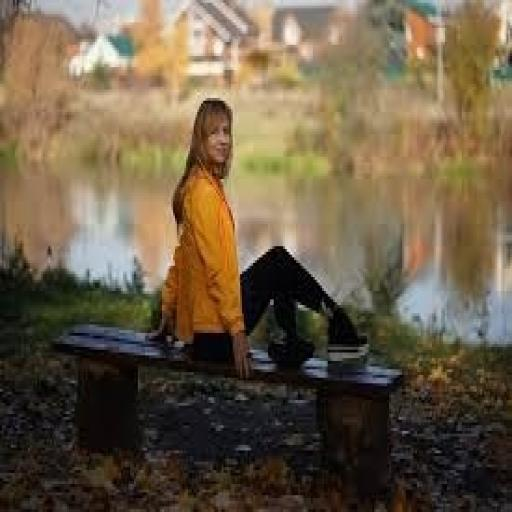sitting: (147, 92, 369, 380)
